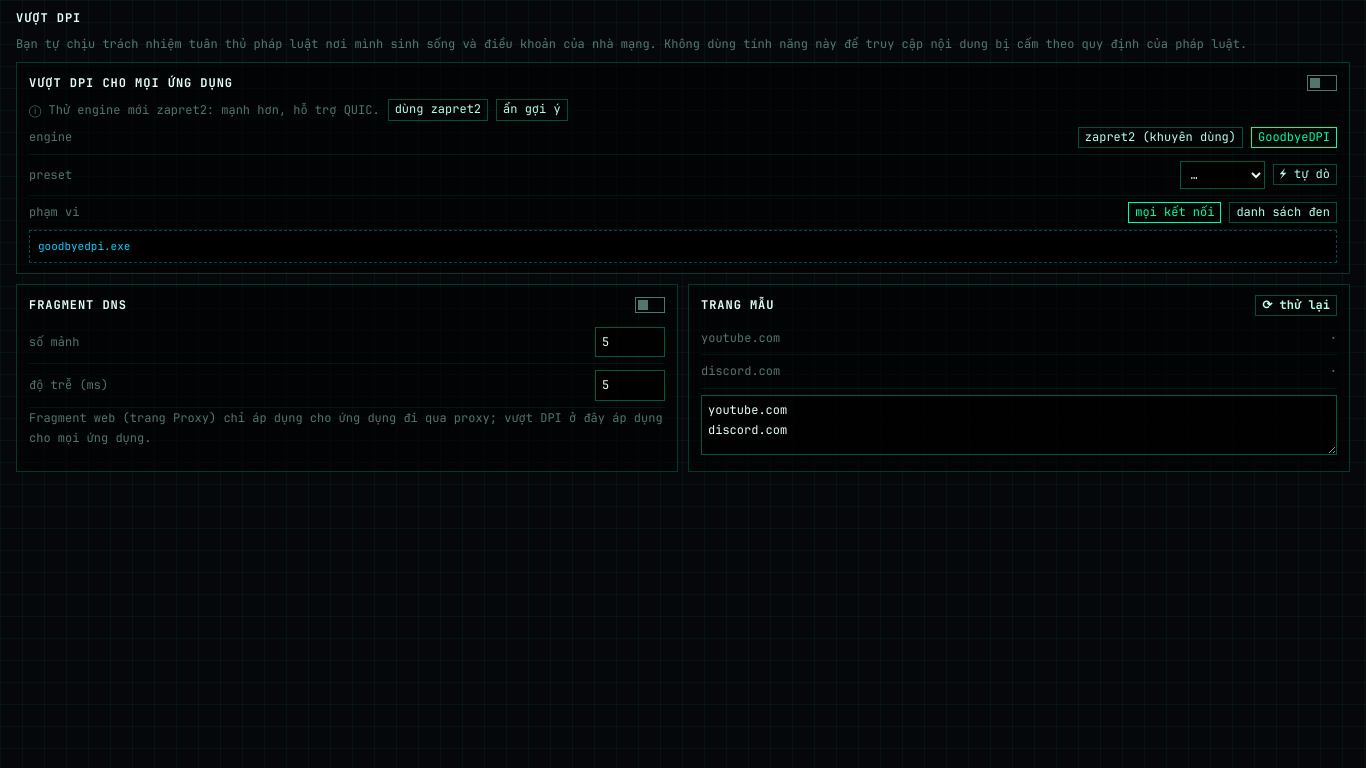
Test case: errors from Go are translated, not shown raw
Click the switch named "VƯỢT DPI CHO MỌI ỨNG DỤNG": (1322, 83) x1=1307 y1=75 x2=1337 y2=91
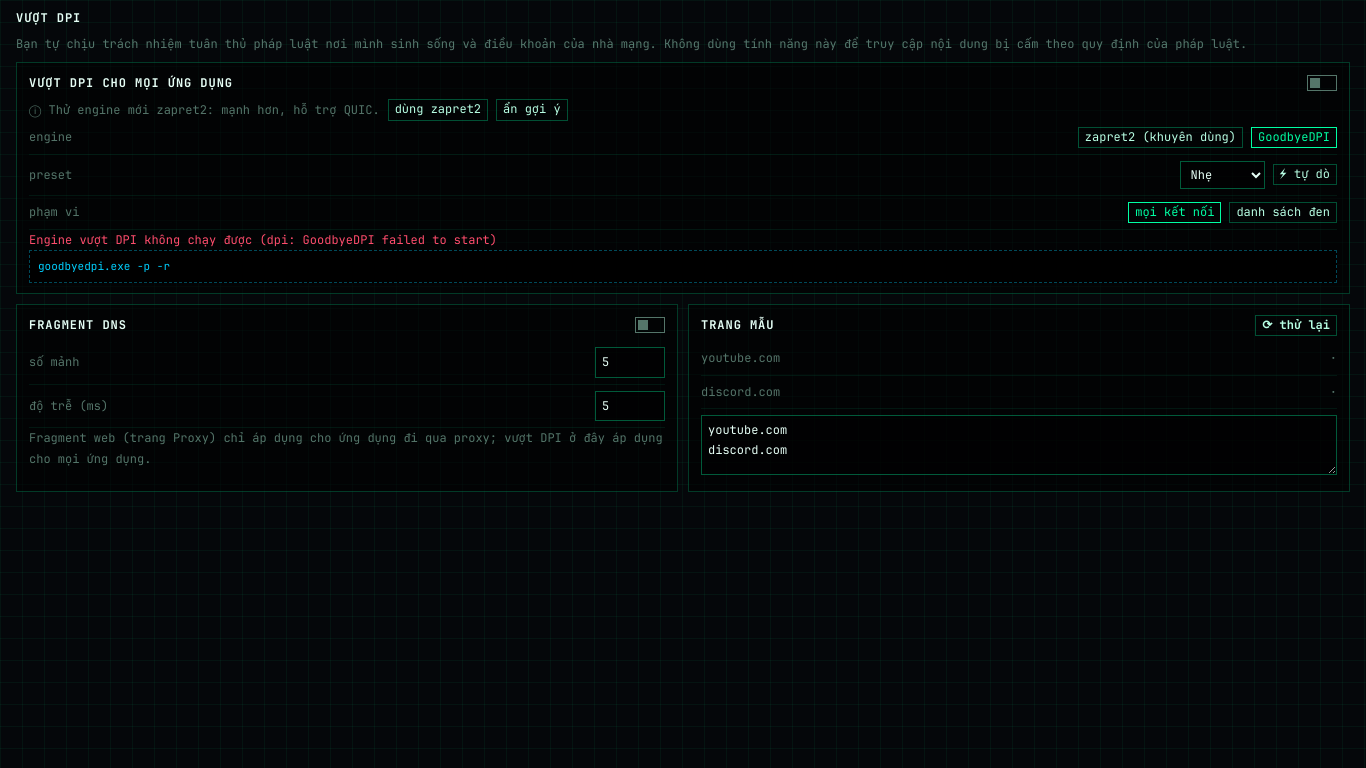
Now the text "Engine vượt DPI không chạy được" is shown, box x1=29 y1=232 x2=497 y2=248
